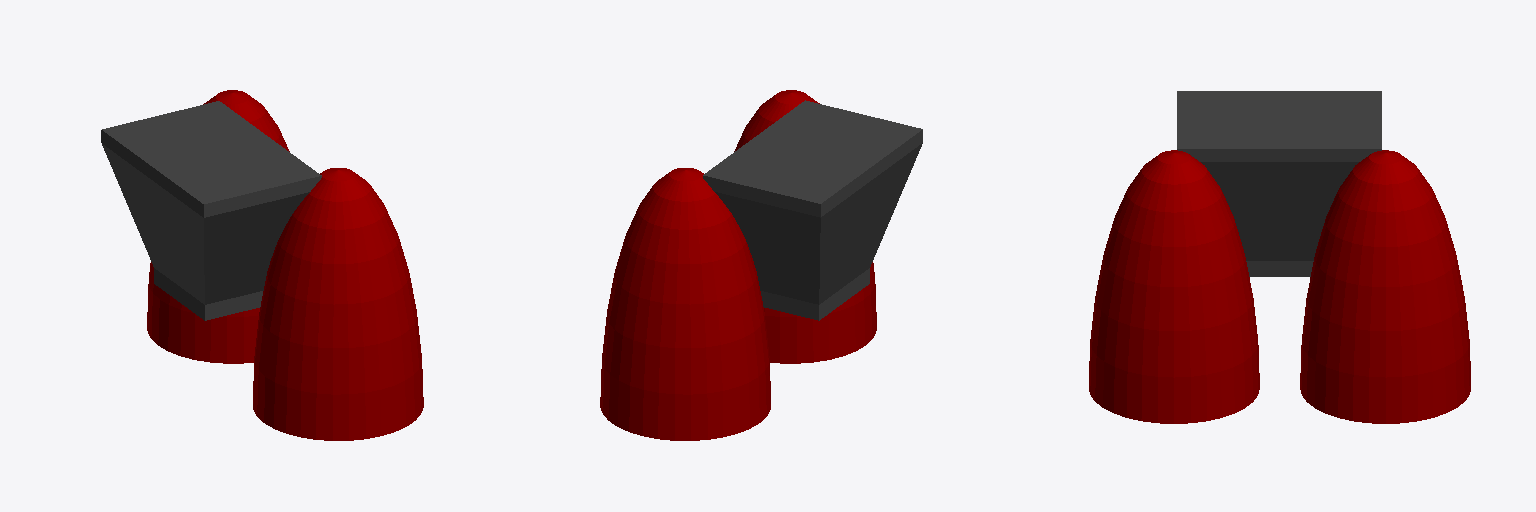
Rendered from Jetpack.obj.
The picture shows the model from 3 angles: view 1: azimuth 30°, elevation 25°; view 2: azimuth 150°, elevation 25°; view 3: azimuth 270°, elevation 25°; orthographic projection.
Visible parts, largest first — view 1: Sphere.001, Cube, Sphere.002; view 2: Sphere.002, Cube, Sphere.001; view 3: Sphere.001, Sphere.002, Cube.
Boxes of the visible parts, <box> form: Sphere.001: <box>253,168,423,440</box>; Cube: <box>101,101,321,320</box>; Sphere.002: <box>147,90,289,363</box>; Sphere.002: <box>600,168,770,440</box>; Cube: <box>703,100,922,320</box>; Sphere.001: <box>734,90,876,363</box>; Sphere.001: <box>1089,150,1259,423</box>; Sphere.002: <box>1300,150,1470,423</box>; Cube: <box>1177,91,1381,276</box>.
Size of the model in its own units: 2.79 by 3.02 by 4.47.